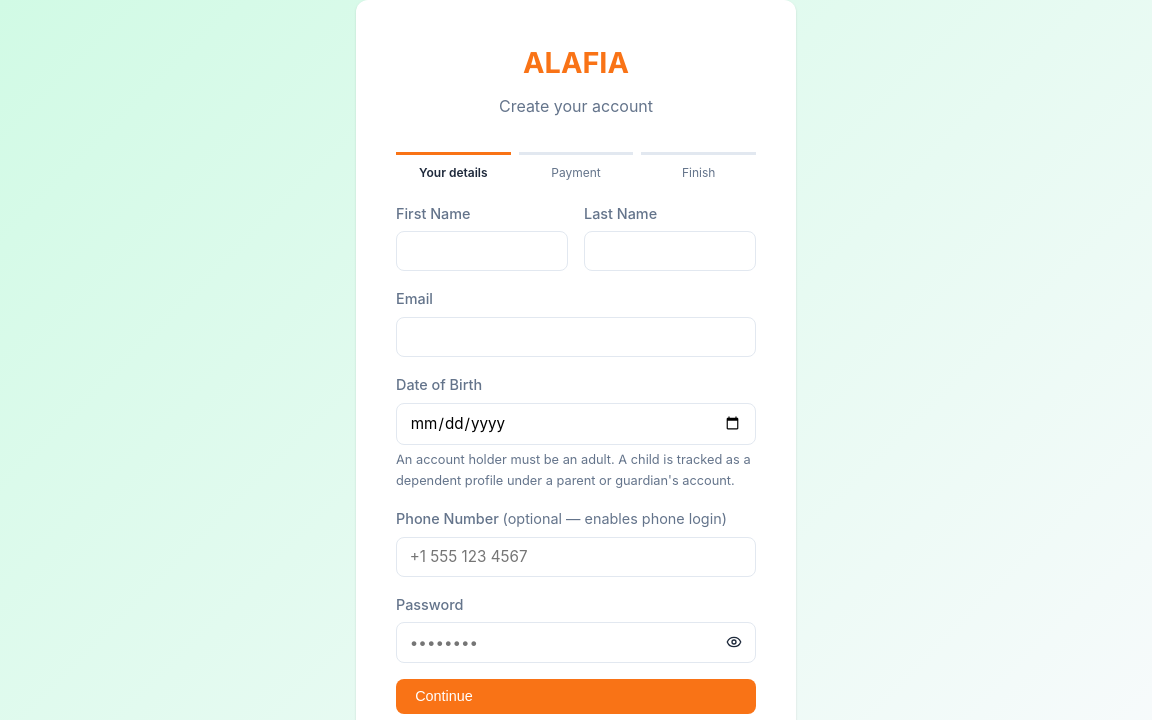
Test: signing up with an address that already has an account › interrupts with a dialog rather than an inline strip
In the field with id "su-first": (482, 251) [396,231,568,272], type "Ada"
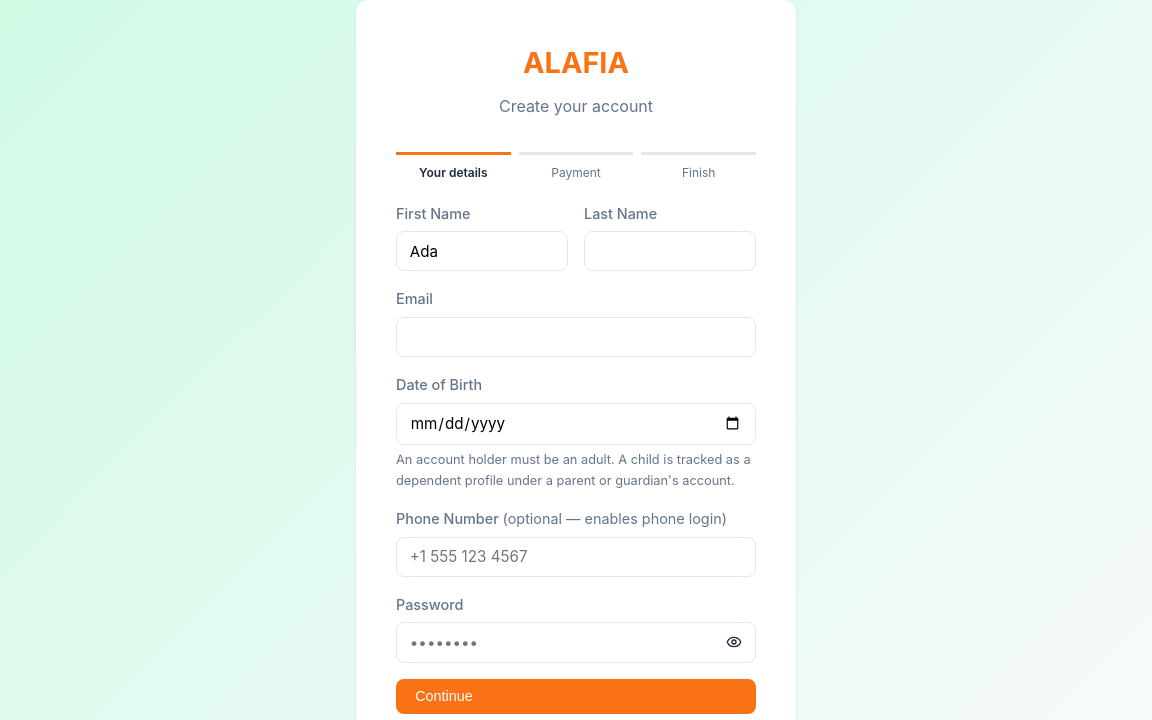
In the field with id "su-last": (670, 251) [584,231,756,272], type "Demo"
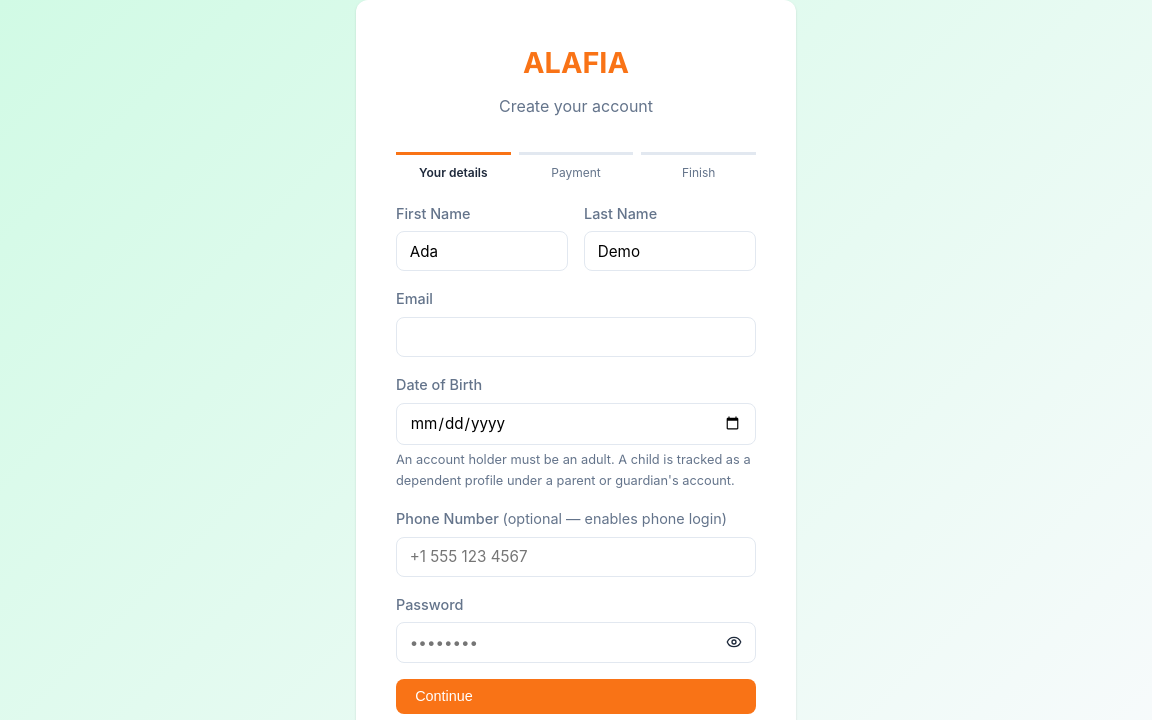
In the field with id "su-email": (576, 337) [396,317,756,357], type "ada@example.com"
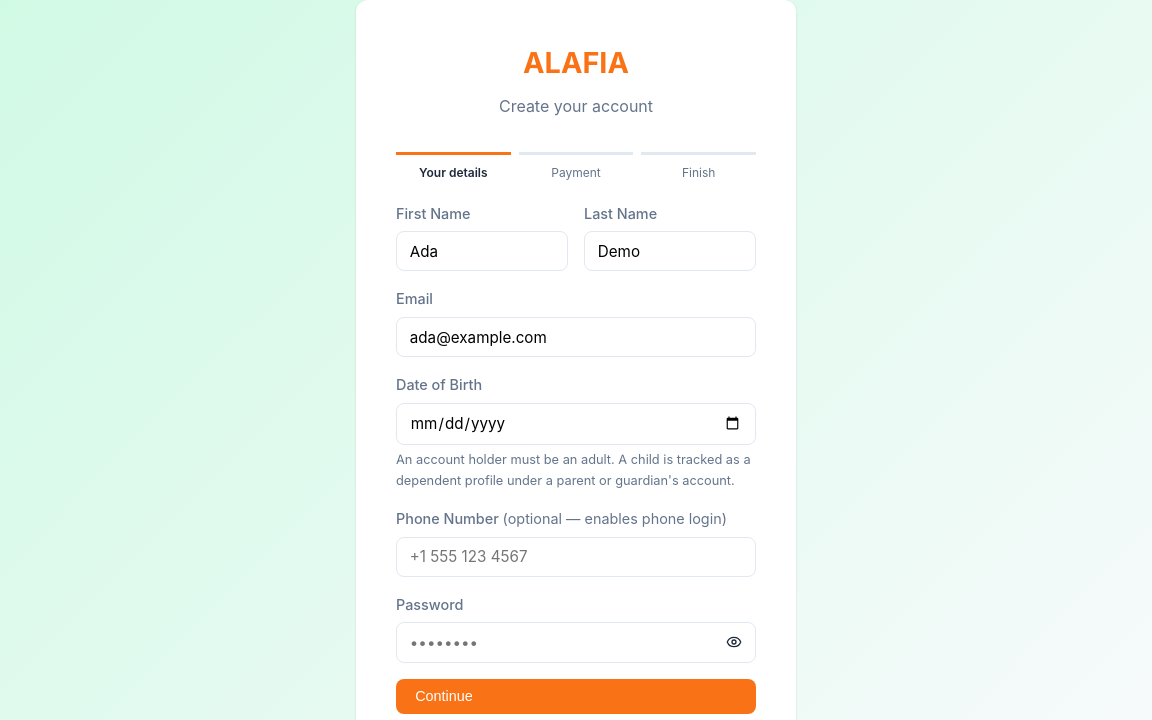
In the date field with id "su-dob": (576, 424) [396,402,756,445], type "1980-01-01"
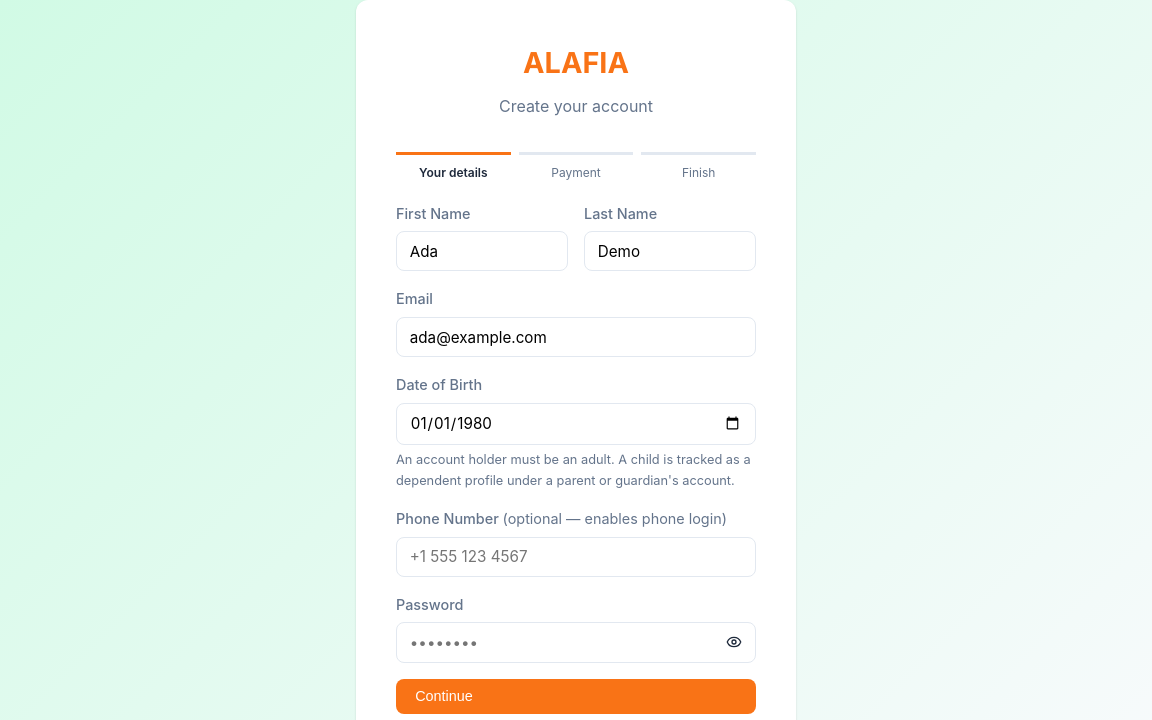
In the password field with id "su-password": (576, 642) [396,622,756,662], type "a-long-enough-password"
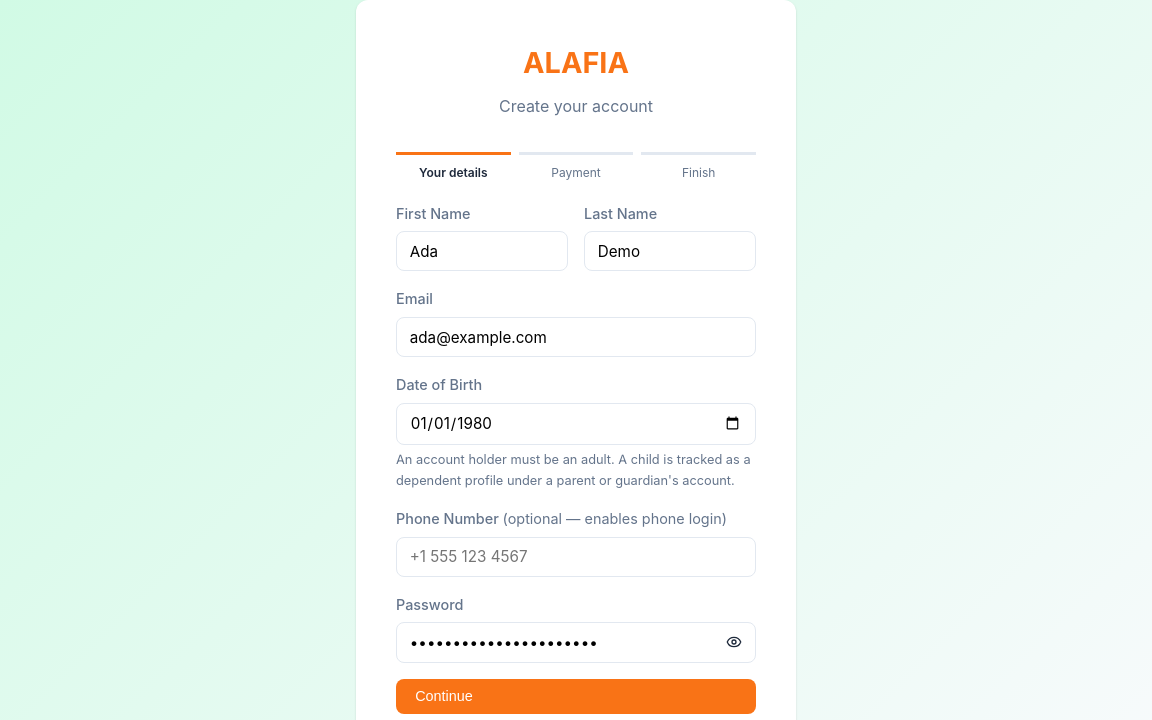
Submit the form, box [396,202,756,714]
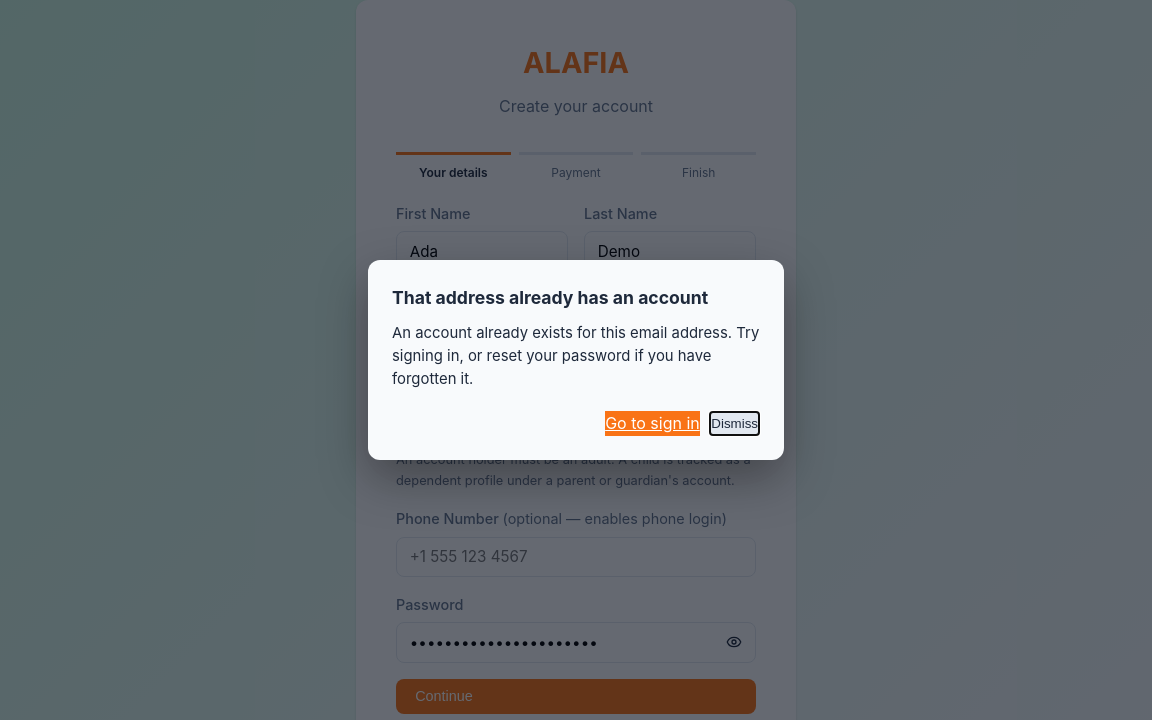
expect the dialog shows "already exists for this email address": met, box [392,324,759,388]
